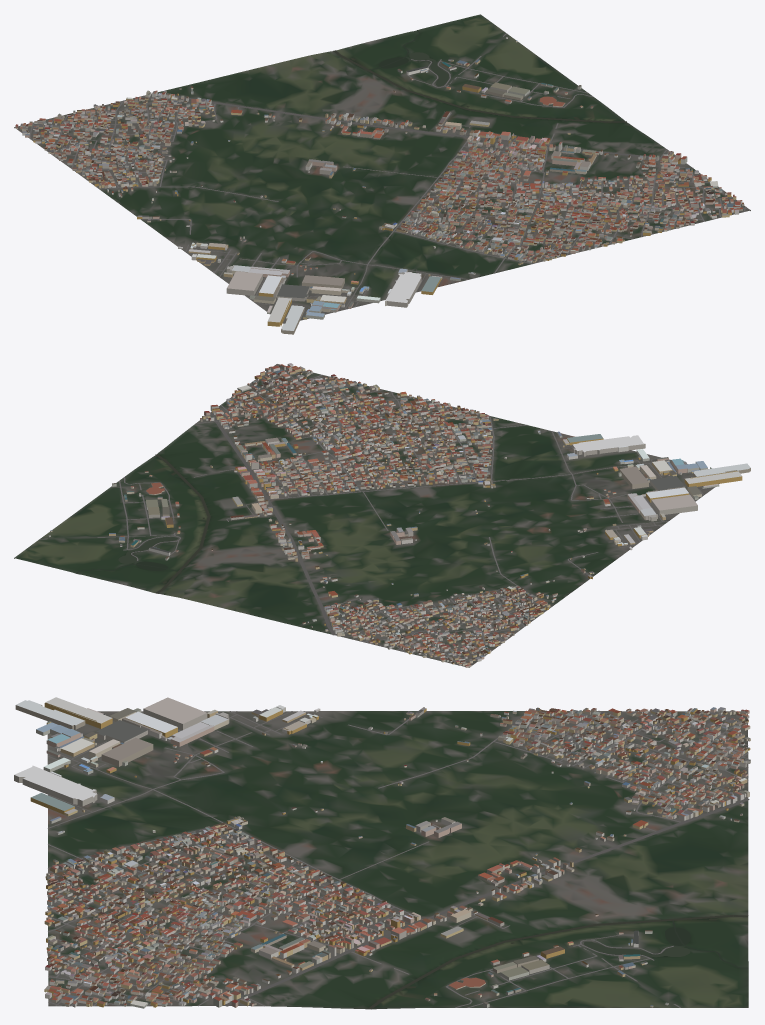
3 renders of one model, top to bottom at view 1: azimuth 30°, elevation 25°; view 2: azimuth 150°, elevation 25°; view 3: azimuth 270°, elevation 25°, orthographic. The views are drawn at different scales.
Parts seen in each view (by area): view 1: ground, buildings, roads, water; view 2: ground, buildings, roads, water; view 3: ground, buildings, roads, water.
Part boxes in pixels (x1,y1,x2,y2): ground: [14, 14, 750, 323]; buildings: [15, 37, 744, 334]; roads: [29, 33, 747, 310]; water: [333, 30, 626, 122]; ground: [14, 364, 719, 667]; buildings: [48, 363, 750, 667]; roads: [39, 365, 715, 663]; water: [76, 454, 210, 593]; ground: [47, 711, 748, 1009]; buildings: [14, 697, 750, 1008]; roads: [47, 710, 749, 1007]; water: [368, 915, 748, 1009].
Size of the model in its own units: 1450 by 29.8 by 1475.
